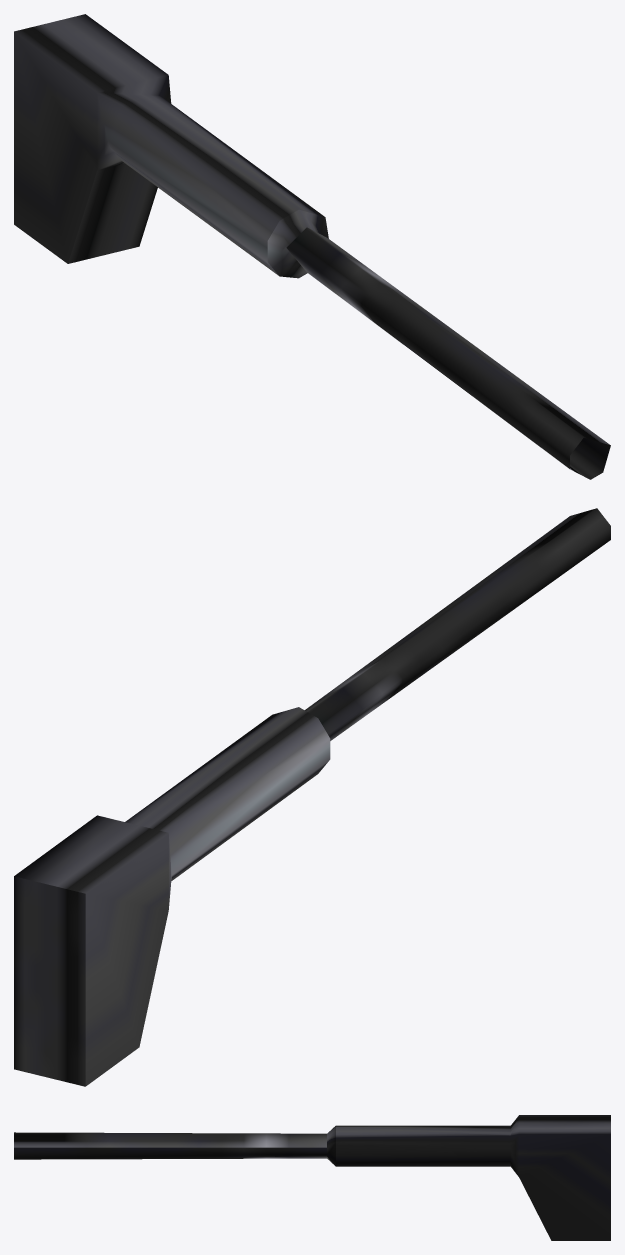
The model's file is ball_gun2.obj.
3 renders of one model, top to bottom at view 1: azimuth 30°, elevation 25°; view 2: azimuth 150°, elevation 25°; view 3: azimuth 270°, elevation 25°, orthographic. The views are drawn at different scales.
Parts seen in each view (by area): view 1: pCylinder6; view 2: pCylinder6; view 3: pCylinder6.
Boxes of the visible parts, x1,y1,x2,y2 form: pCylinder6: (14,14,610,479); pCylinder6: (14,508,610,1086); pCylinder6: (14,1115,610,1240).
Size of the model in its own units: 0.3962 by 1.02 by 5.19.
